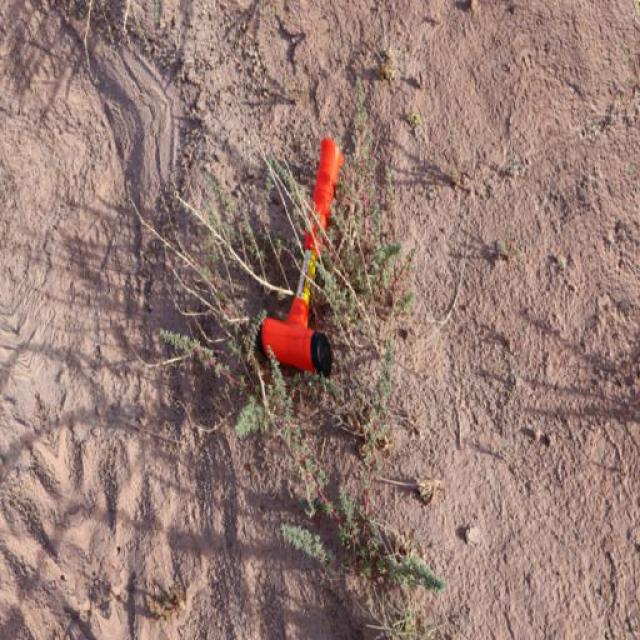mallet: (257, 135, 345, 376)
